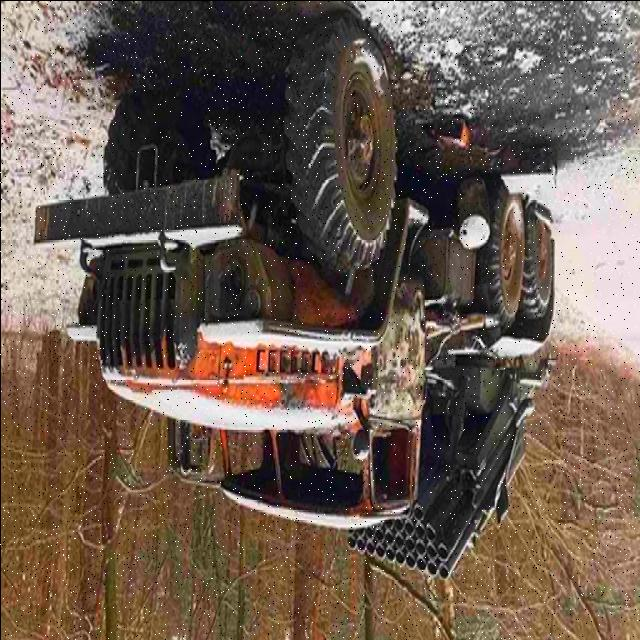MLRS: (26, 9, 562, 591)
